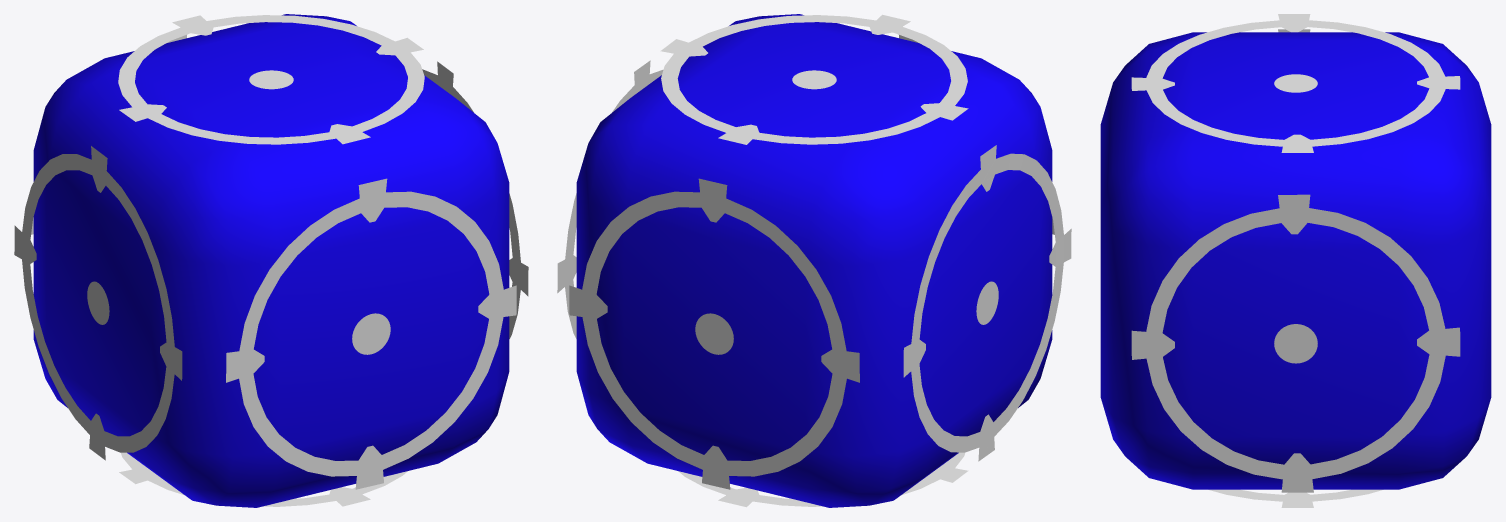
File: Target_Blue.fbx
3 renders of one model, left to right at view 1: azimuth 30°, elevation 25°; view 2: azimuth 150°, elevation 25°; view 3: azimuth 270°, elevation 25°, orthographic. The views are drawn at different scales.
Parts seen in each view (by area): view 1: Cube.Blue; view 2: Cube.Blue; view 3: Cube.Blue.
Part boxes in pixels (x1,y1,x2,y2): Cube.Blue: (14, 14, 528, 507); Cube.Blue: (557, 14, 1071, 507); Cube.Blue: (1100, 14, 1491, 507).
Size of the model in its own units: 66.14 by 66.14 by 66.14.
